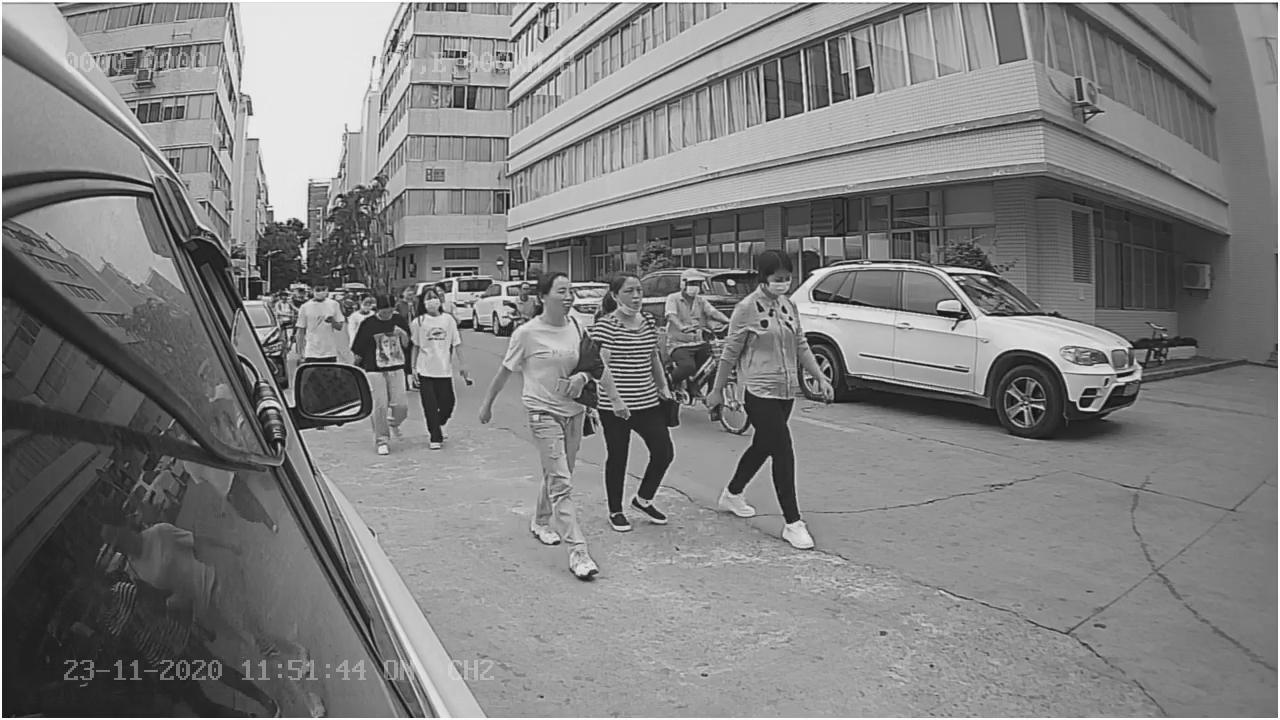person: (703, 247, 845, 549), (479, 265, 612, 579), (407, 279, 470, 452)
